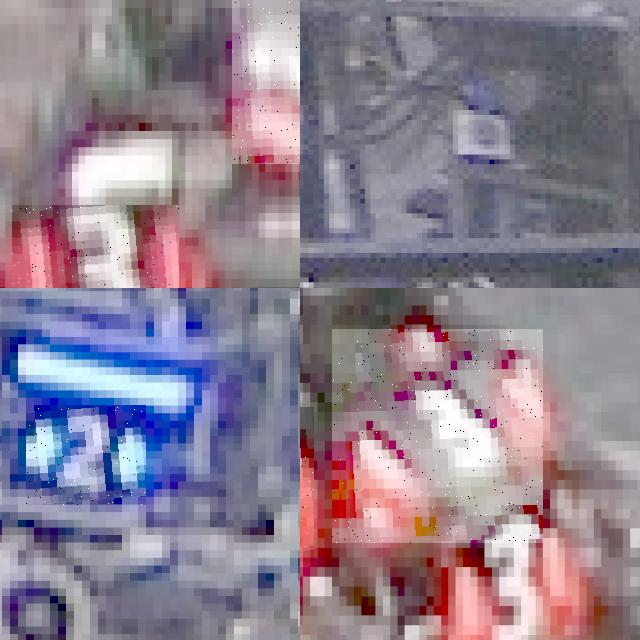B2: (26, 405, 146, 505)
R3: (332, 329, 543, 543), (415, 494, 583, 640), (12, 204, 178, 288), (232, 0, 300, 163)
